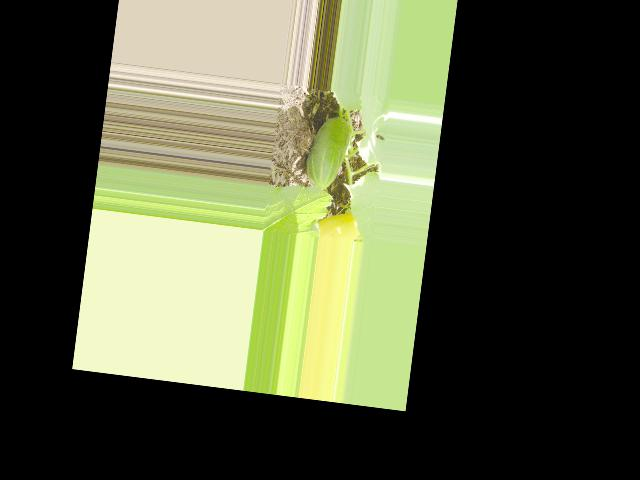cucumber: (302, 113, 352, 192)
